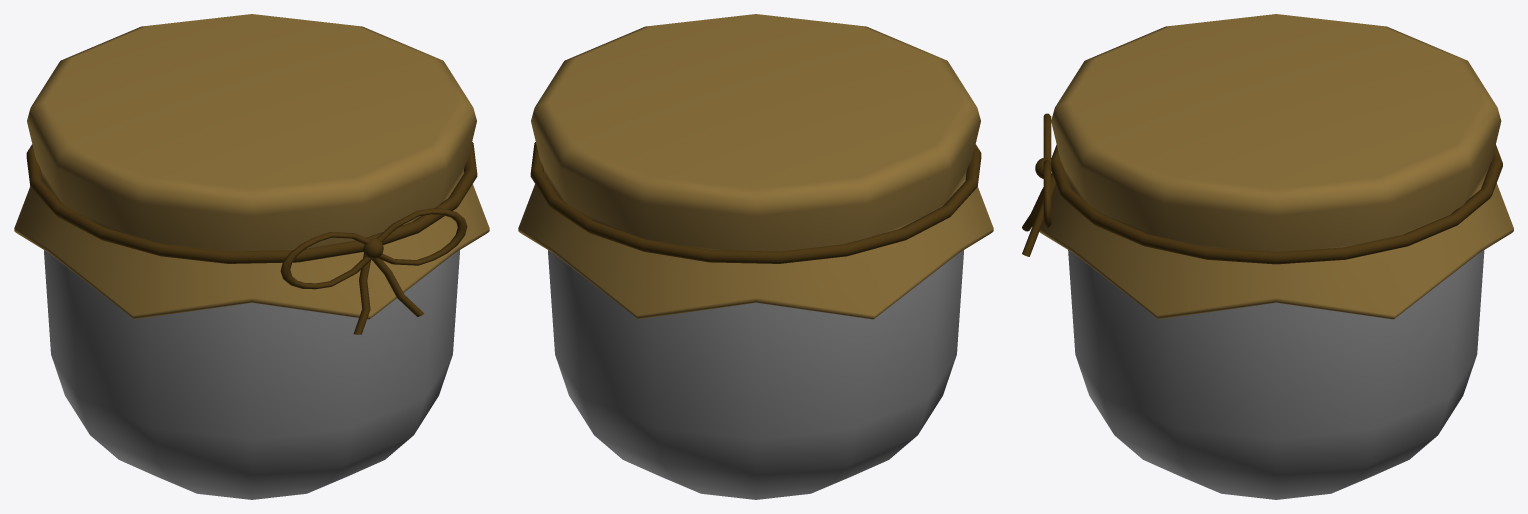
Rendered from SM_Jar_4.fbx.
3 views of the same model, side by side, from view 1: azimuth 30°, elevation 25°; view 2: azimuth 150°, elevation 25°; view 3: azimuth 270°, elevation 25° (orthographic).
Visible parts, largest first — view 1: pCylinder6; view 2: pCylinder6; view 3: pCylinder6.
Part boxes in pixels (<box>): pCylinder6: <box>14,14,489,499</box>; pCylinder6: <box>518,14,993,499</box>; pCylinder6: <box>1022,14,1513,499</box>.
Bounding box in the file's own units: 0.3249 × 0.2752 × 0.338.
